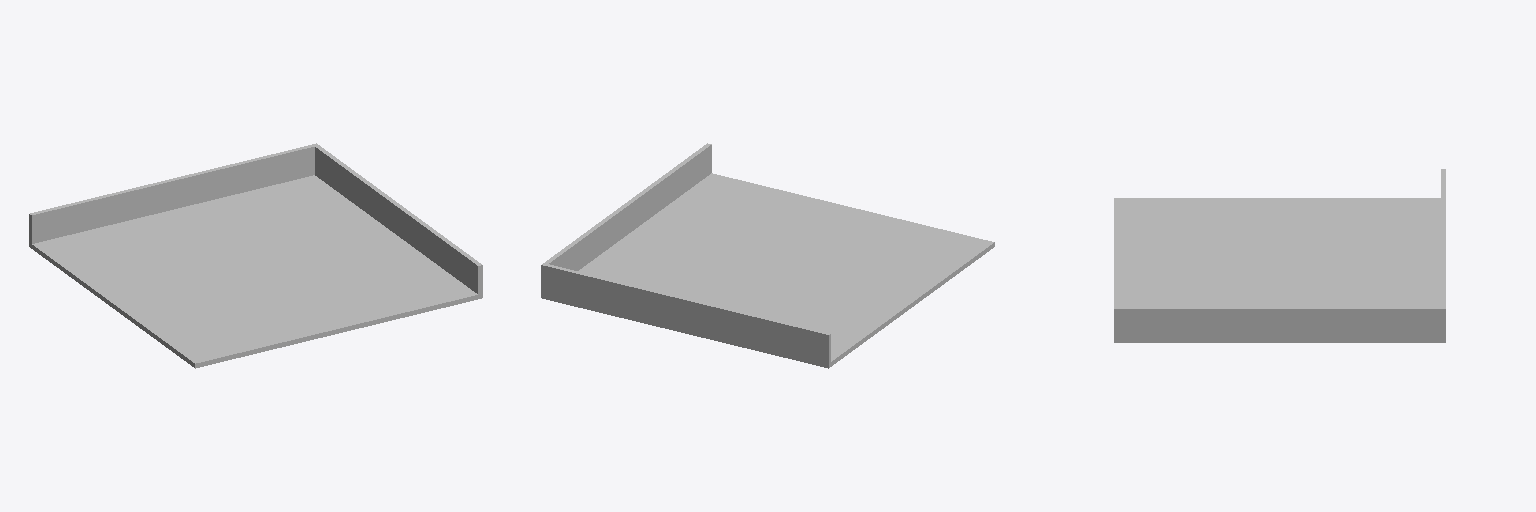
File: 2x2roof (1)-0.obj
3 views of the same model, side by side, from view 1: azimuth 30°, elevation 25°; view 2: azimuth 150°, elevation 25°; view 3: azimuth 270°, elevation 25° (orthographic).
Parts seen in each view (by area): view 1: 2x2roof (1)-0; view 2: 2x2roof (1)-0; view 3: 2x2roof (1)-0.
Part boxes in pixels (x1,y1,x2,y2): 2x2roof (1)-0: (29,143,482,368); 2x2roof (1)-0: (541,143,994,368); 2x2roof (1)-0: (1114,169,1445,342).
Bounding box in the file's own units: 126 × 14 × 126.